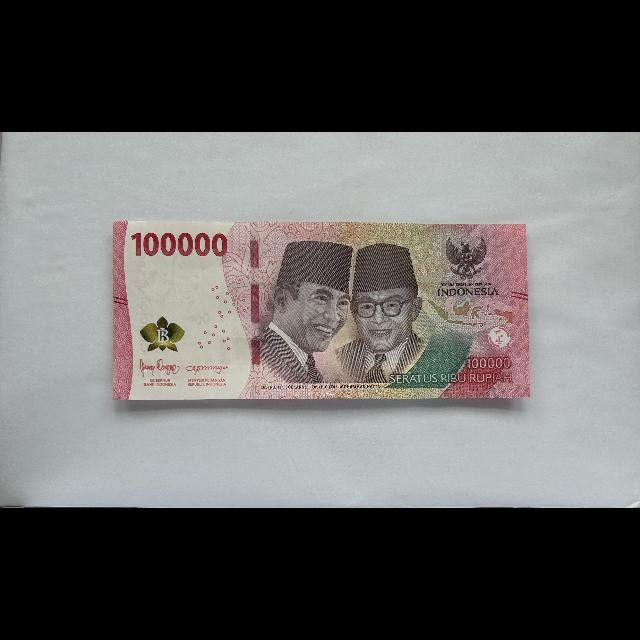Asli-100k: (113, 220, 532, 402)
Tinta-Asli-100k: (139, 316, 185, 353)
